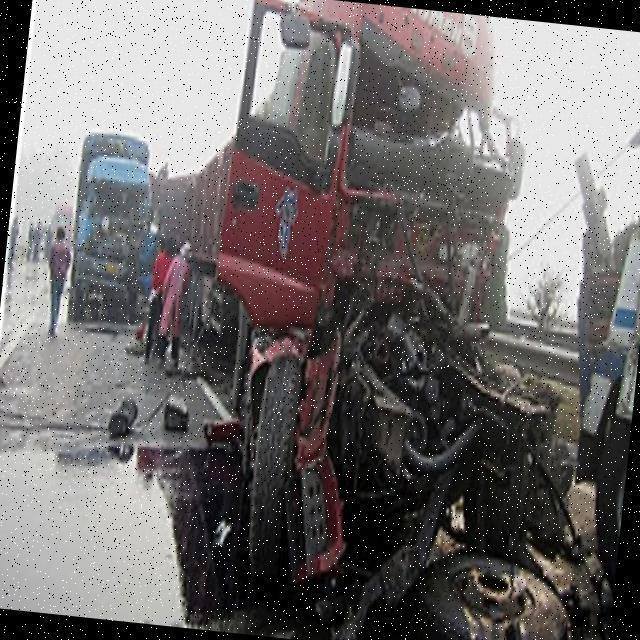accident: (61, 147, 191, 313)
